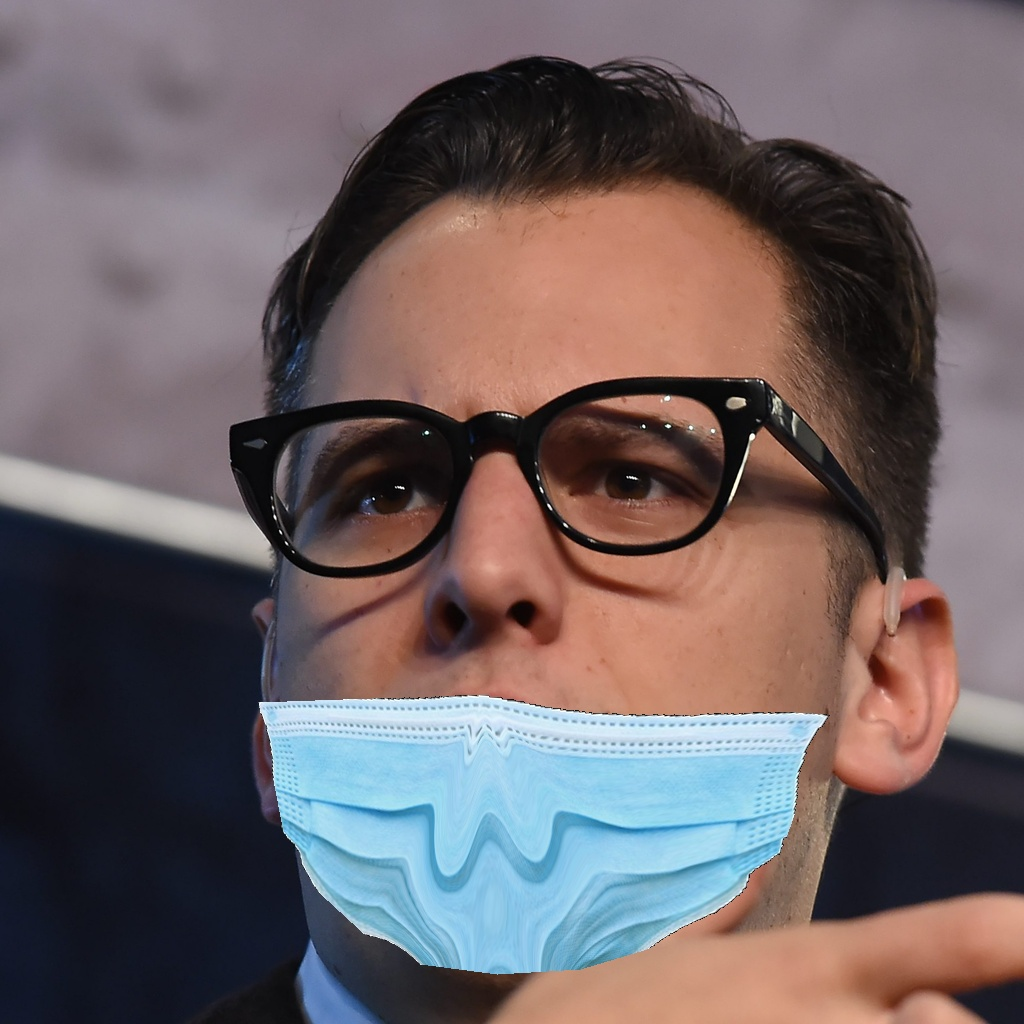mascarilla_mal_puesta: (251, 433, 833, 968)
